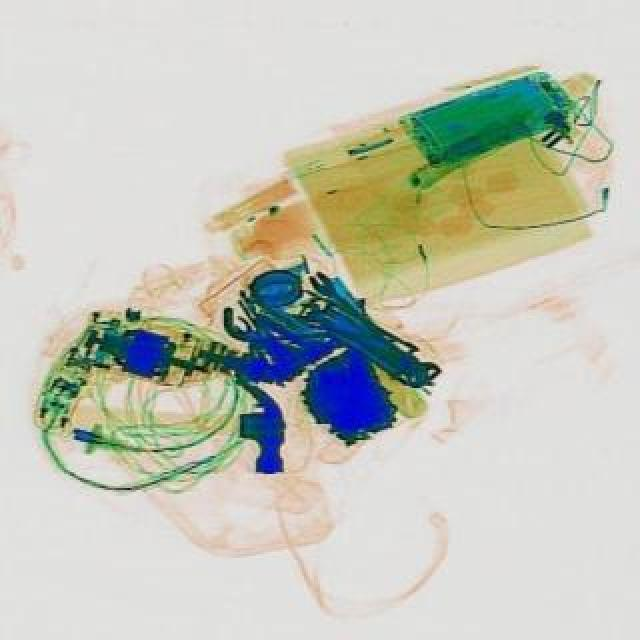scissors: (308, 266, 394, 342), (378, 334, 448, 386)
